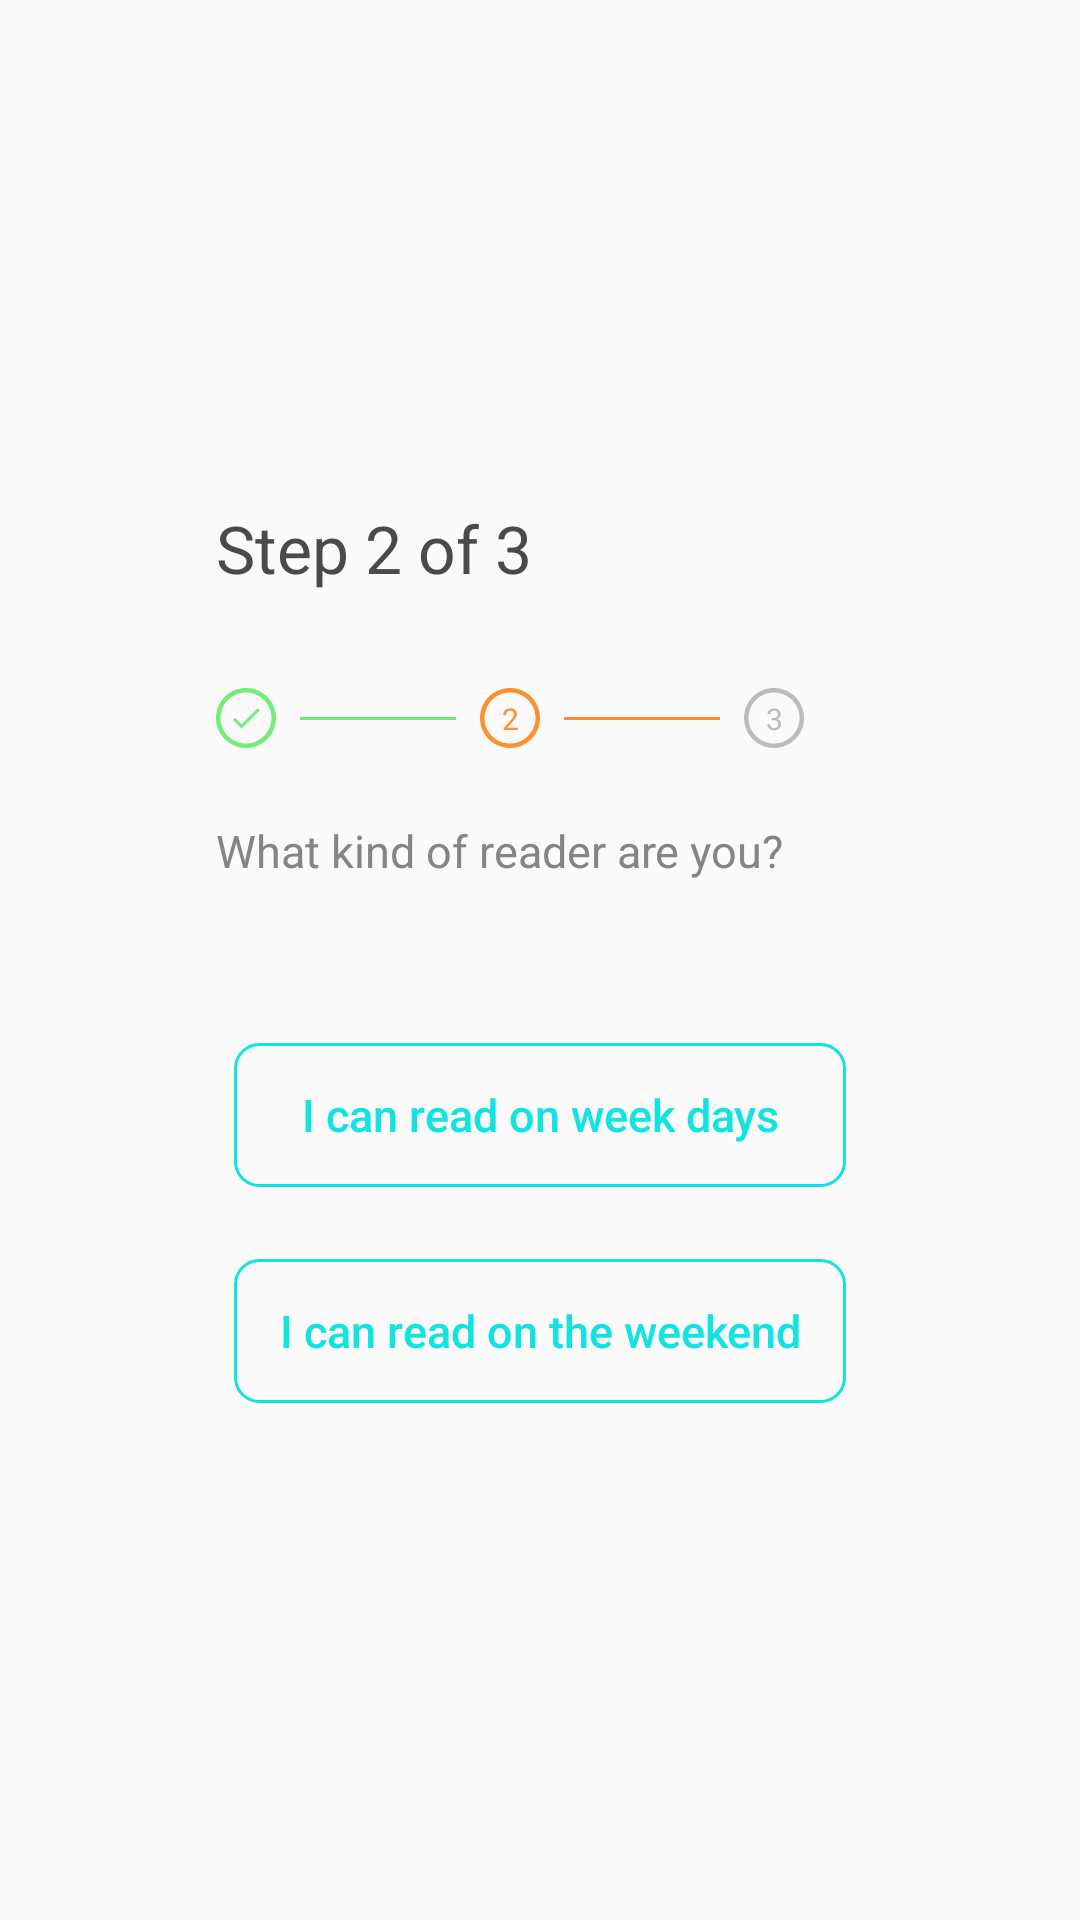

Screen size 1080px x 1920px. Icon name, then its center in pixels as (x=x, y=y):
circle: (x=246, y=718), (x=510, y=718)
circle silver: (x=774, y=718)
